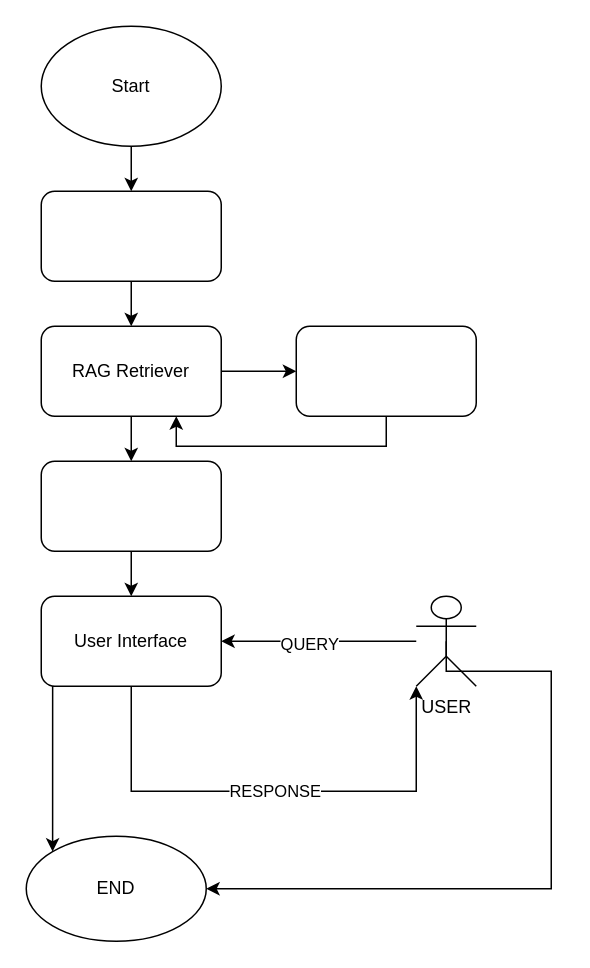
Some shapes in this 590 by 968 pixel diagram are drawn without their labels. Each missing label, with the centre of its shape:
"Image information through LLM" goes at [385,370].
"RAG Agent" goes at [130,505].
"Scrapper" goes at [130,235].
